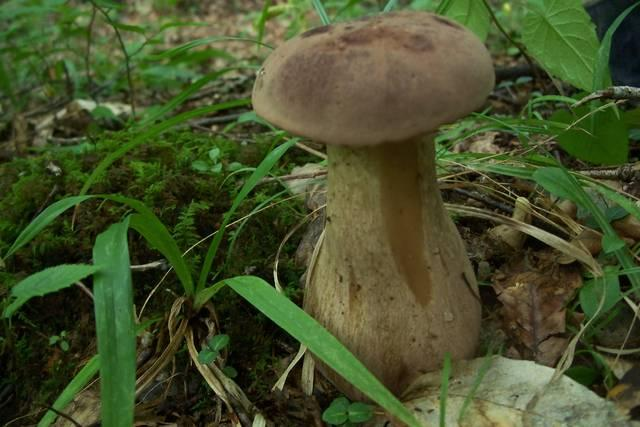poisonous_mushroom: (249, 9, 496, 404)
